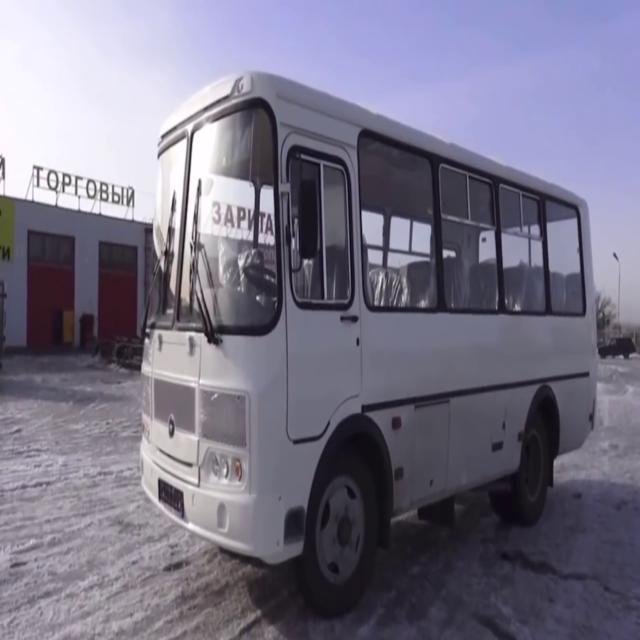bus: (140, 64, 601, 603)
